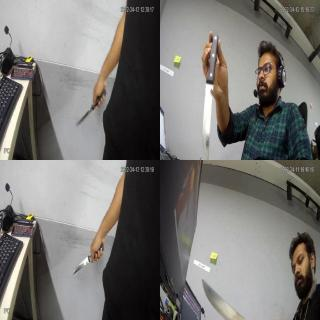knife: (202, 278, 249, 320), (201, 66, 221, 160), (73, 103, 93, 127), (72, 254, 89, 278)
